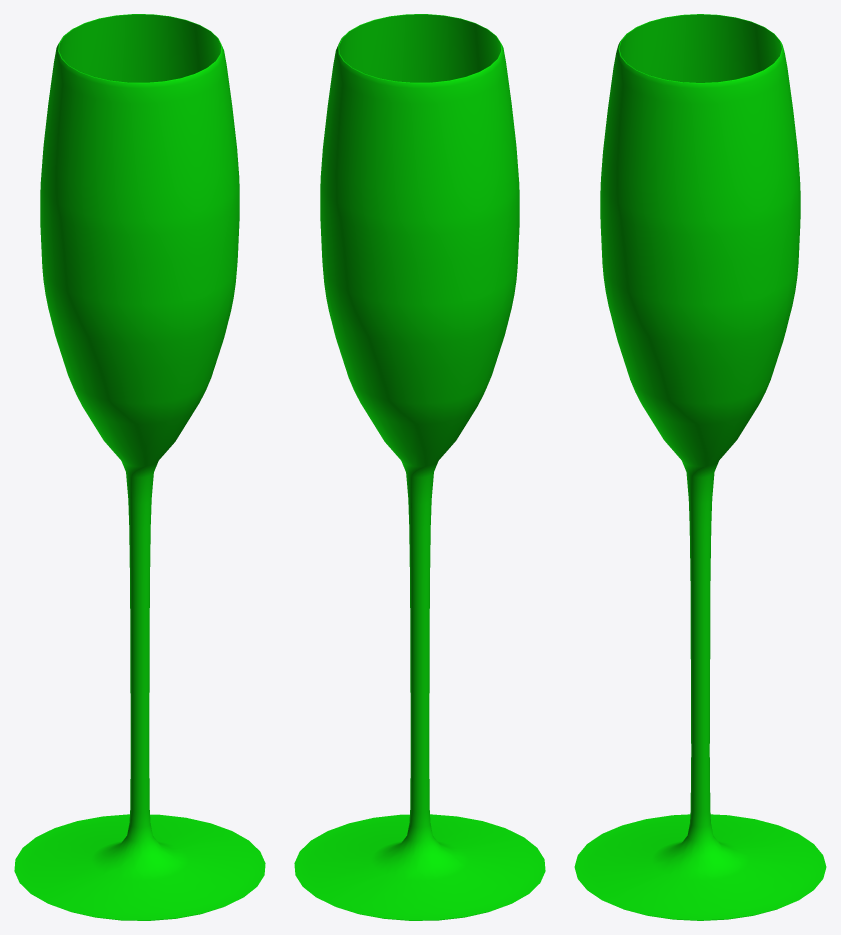
File: Glass6_LOD_1.fbx
3 views of the same model, side by side, from view 1: azimuth 30°, elevation 25°; view 2: azimuth 150°, elevation 25°; view 3: azimuth 270°, elevation 25° (orthographic).
Visible parts, largest first — view 1: Glass6_LOD_1; view 2: Glass6_LOD_1; view 3: Glass6_LOD_1.
Boxes of the visible parts, <box> form: Glass6_LOD_1: <box>14,14,265,920</box>; Glass6_LOD_1: <box>294,14,545,920</box>; Glass6_LOD_1: <box>574,14,826,920</box>.
Size of the model in its own units: 1.42 by 5.11 by 1.42.
